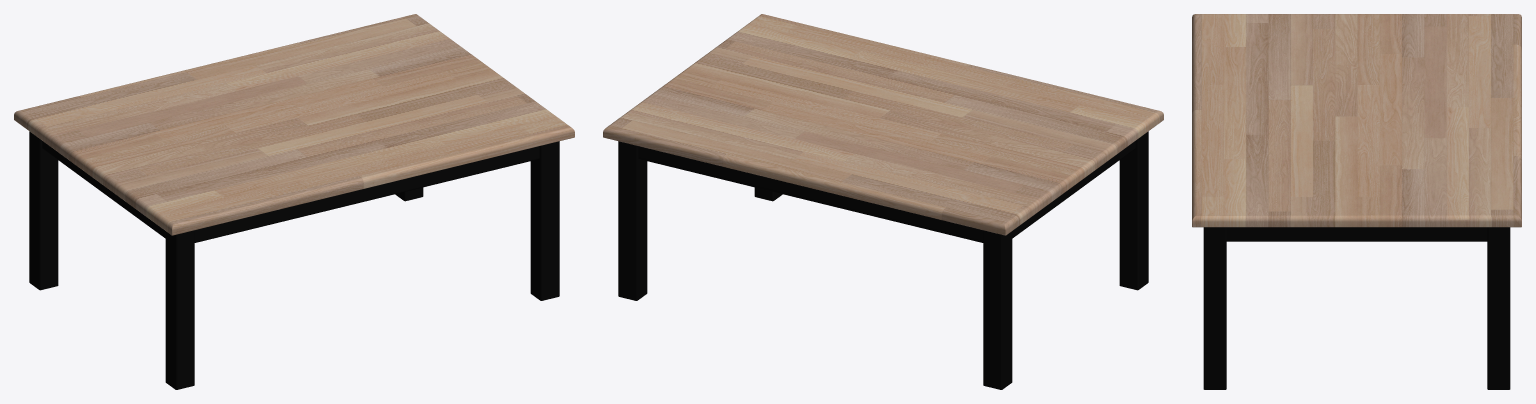
Rendered from SM_Living_LowTable.fbx.
3 renders of one model, left to right at view 1: azimuth 30°, elevation 25°; view 2: azimuth 150°, elevation 25°; view 3: azimuth 270°, elevation 25°, orthographic. The views are drawn at different scales.
Visible parts, largest first — view 1: LowTable; view 2: LowTable; view 3: LowTable.
Boxes of the visible parts, left/top/right/bottom form: LowTable: left=14, top=14, right=574, bottom=389; LowTable: left=603, top=14, right=1163, bottom=389; LowTable: left=1192, top=14, right=1521, bottom=389.
Size of the model in its own units: 0.8438 by 0.5741 by 0.3413.
